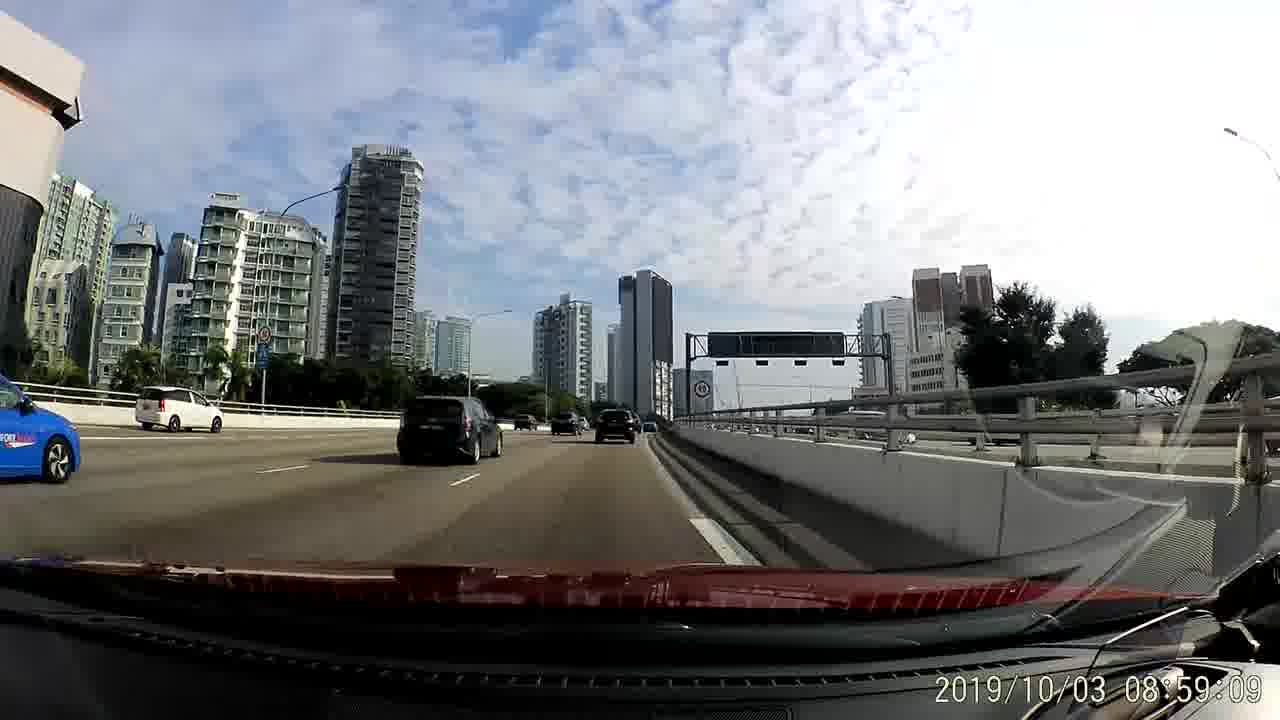car: (2, 372, 82, 484), (396, 391, 504, 464), (134, 380, 224, 434), (595, 406, 637, 442), (550, 407, 584, 438), (512, 412, 539, 432), (642, 421, 661, 432)
